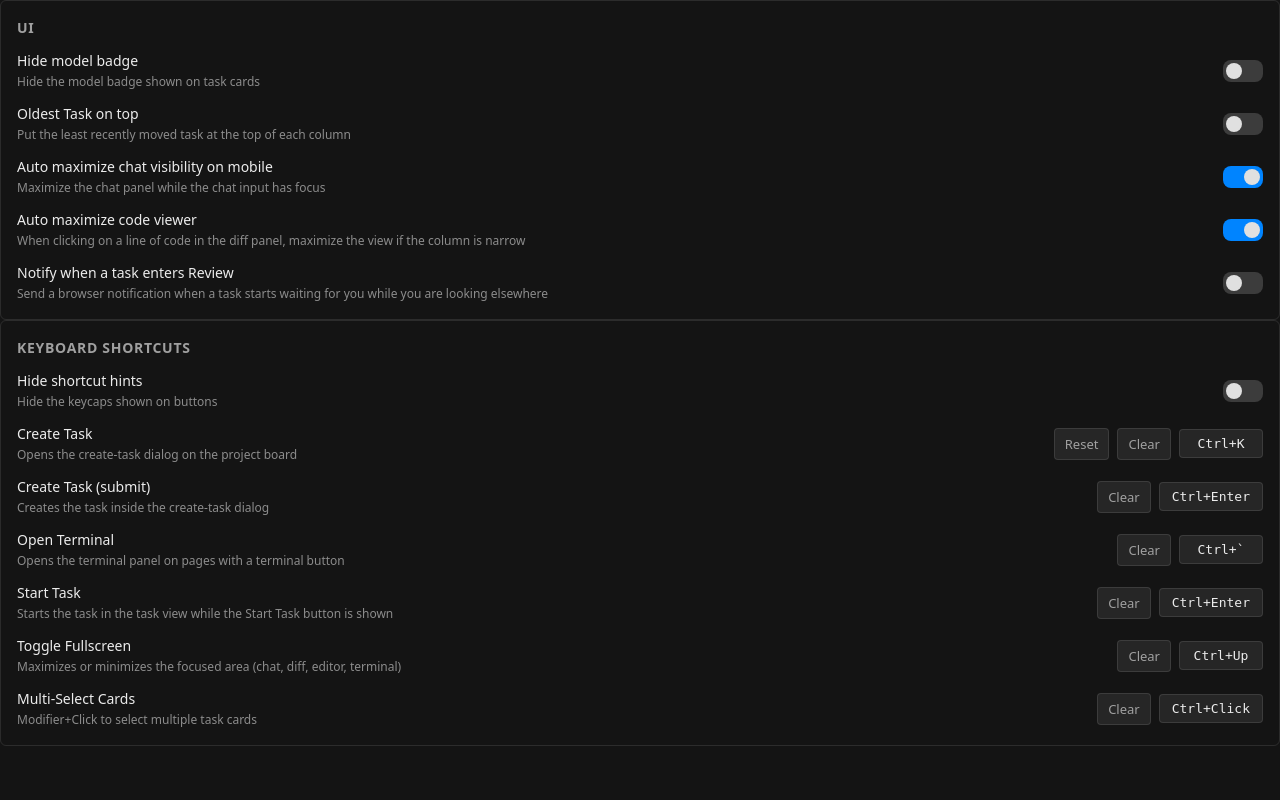
Test: PreferencesTab create-task row › resets to the default binding
Click the button with aria-label "Reset to default" at point(1082, 444), box left=1054, top=428, right=1110, bottom=460
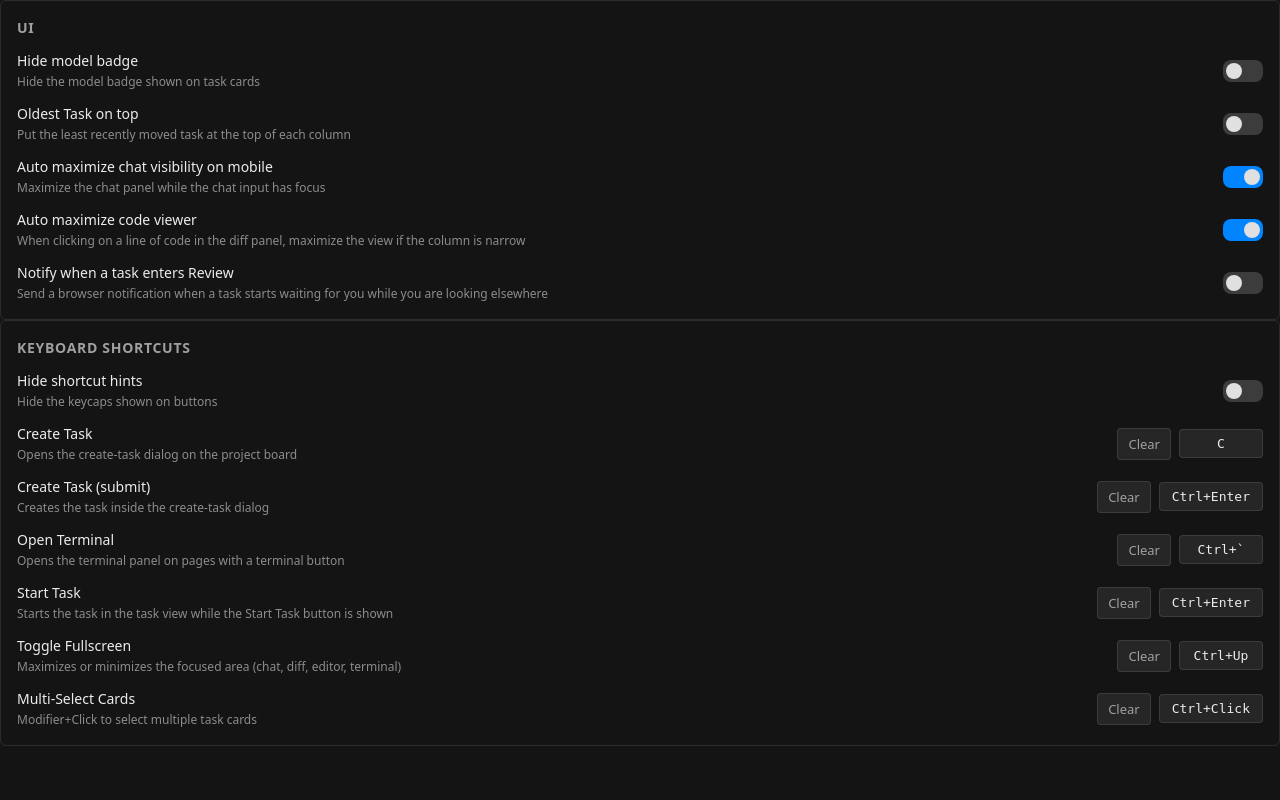
Expected: the button named "create task shortcut" reads "C", left=1179, top=429, right=1263, bottom=458
